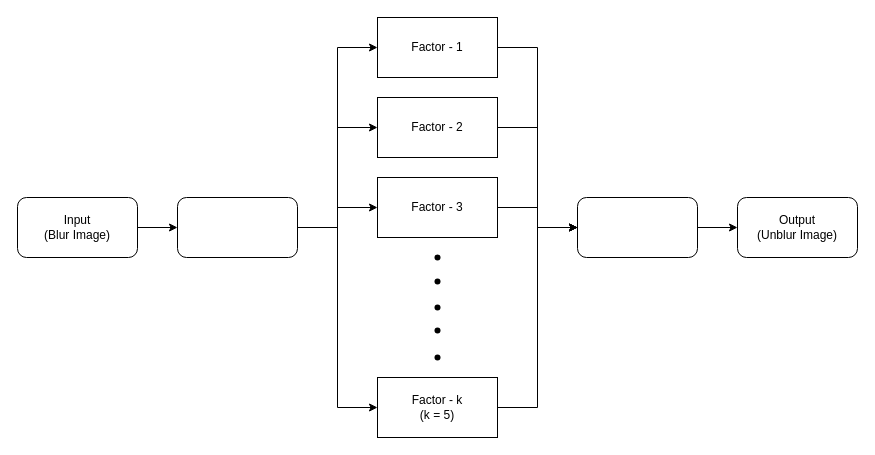
The diagram is 875 pixels wide and 455 high, and some of its shapes have lost their labels. The shapes that lost their labels are listed below. From the top down, each one's centre as x and y in pixels, then its label:
At point 237,227: "Factorization Module".
At point 637,227: "Modified AirNet".
